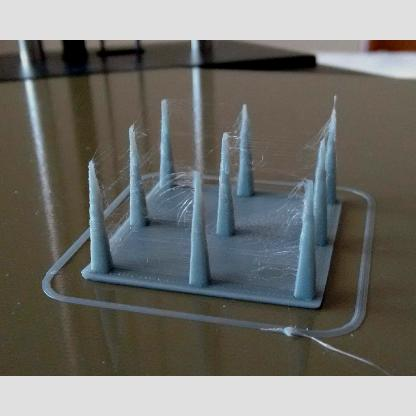fail: (172, 170, 192, 228), (283, 181, 305, 226)
